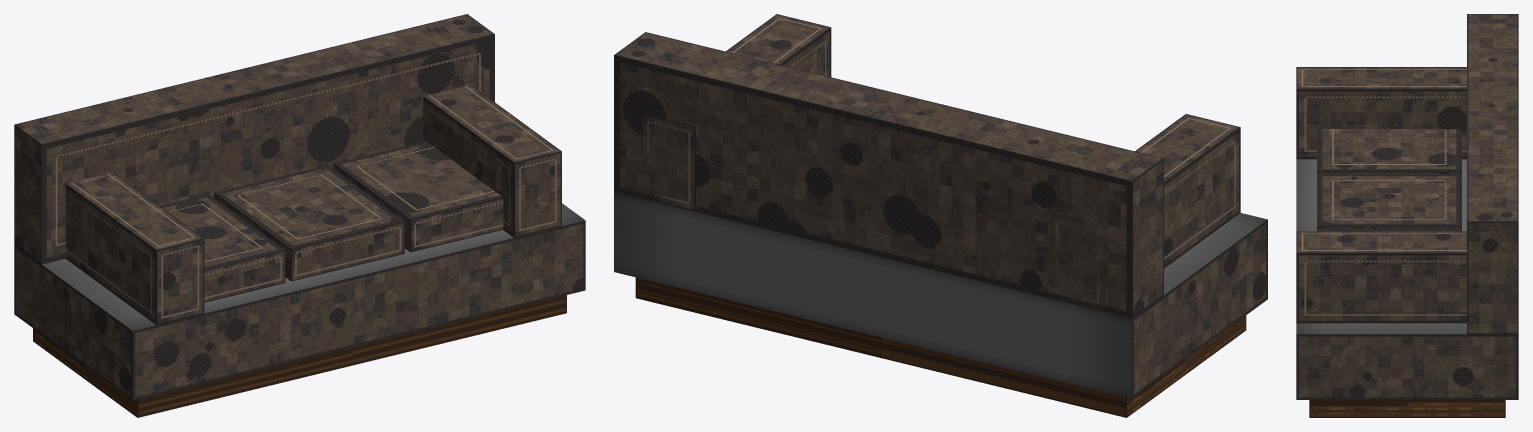
The model's file is SM_Couch_Worn_01.fbx.
3 renders of one model, left to right at view 1: azimuth 30°, elevation 25°; view 2: azimuth 150°, elevation 25°; view 3: azimuth 270°, elevation 25°, orthographic. The views are drawn at different scales.
Parts seen in each view (by area): view 1: SM_Couch_Worn_01; view 2: SM_Couch_Worn_01; view 3: SM_Couch_Worn_01.
Boxes of the visible parts, box(x1,y1,x2,y2) form: SM_Couch_Worn_01: box(14, 14, 585, 417); SM_Couch_Worn_01: box(614, 14, 1267, 417); SM_Couch_Worn_01: box(1296, 14, 1518, 417).
Bounding box in the file's own units: 1.9 × 0.86 × 0.86.
1 material, 1 textured.
